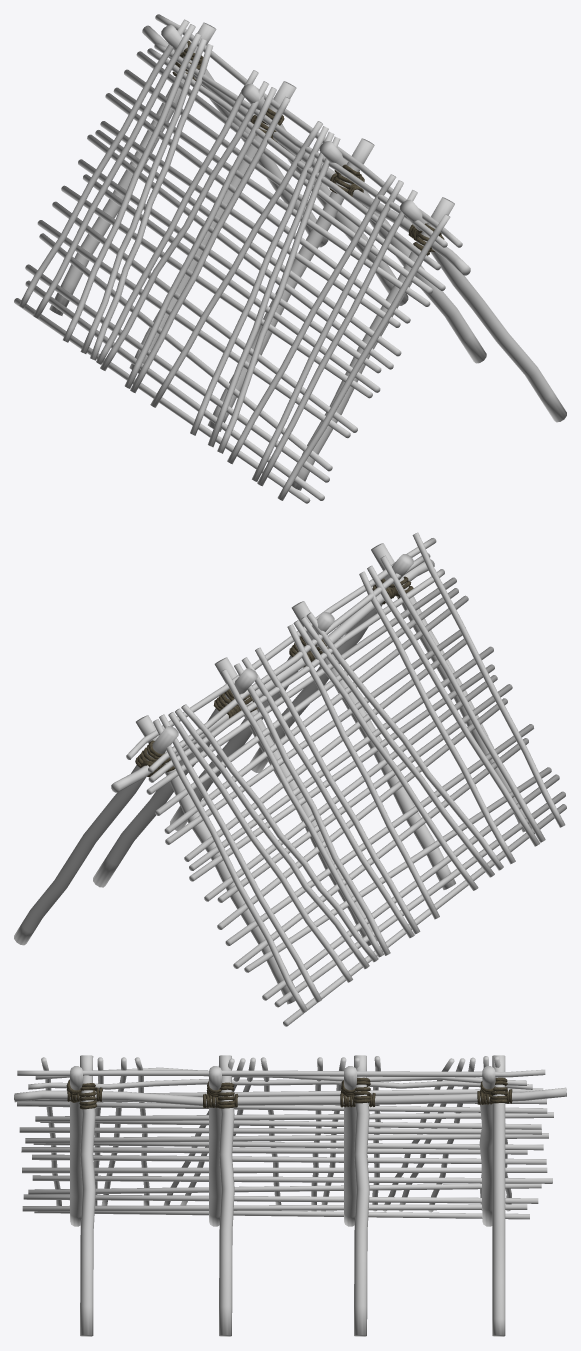
Rendered from midpoly_viking_tent_008.obj.
The picture shows the model from 3 angles, top to bottom: view 1: azimuth 30°, elevation 25°; view 2: azimuth 150°, elevation 25°; view 3: azimuth 270°, elevation 25°; orthographic projection. The views are drawn at different scales.
Parts seen in each view (by area): view 1: Cylinder.276, Cylinder.279, Cylinder.274, Cylinder.262, Cylinder.263, Cylinder.261, Cylinder.265, Cylinder.260, Cylinder.269, Cylinder.266, Cylinder.256, Cylinder.254 (+34 smaller); view 2: Cylinder.278, Cylinder.272, Cylinder.268, Cylinder.254, Cylinder.255, Cylinder.266, Cylinder.267, Cylinder.257, Cylinder.256, Cylinder.261, Cylinder.274, Cylinder.262 (+34 smaller); view 3: Cylinder.275, Cylinder.276, Cylinder.278, Cylinder.272, Cylinder.273, Cylinder.161, BezierCircle.286, Cylinder.247, Cylinder.231, Cylinder.229, Cylinder.246, Cylinder.230 (+28 smaller).
Boxes of the visible parts, x1=… form: Cylinder.276: x1=400, y1=199, x2=566, y2=422; Cylinder.279: x1=49, y1=22, x2=216, y2=315; Cylinder.274: x1=208, y1=138, x2=374, y2=431; Cylinder.262: x1=80, y1=38, x2=206, y2=353; Cylinder.263: x1=90, y1=43, x2=213, y2=360; Cylinder.261: x1=63, y1=33, x2=201, y2=342; Cylinder.265: x1=124, y1=87, x2=276, y2=388; Cylinder.260: x1=190, y1=126, x2=328, y2=435; Cylinder.269: x1=33, y1=24, x2=195, y2=318; Cylinder.266: x1=130, y1=96, x2=290, y2=393; Cylinder.256: x1=252, y1=180, x2=403, y2=481; Cylinder.254: x1=277, y1=214, x2=450, y2=500; Cylinder.278: x1=14, y1=726, x2=178, y2=945; Cylinder.272: x1=93, y1=668, x2=257, y2=887; Cylinder.268: x1=221, y1=669, x2=383, y2=957; Cylinder.254: x1=412, y1=532, x2=565, y2=827; Cylinder.255: x1=380, y1=555, x2=545, y2=842; Cylinder.266: x1=255, y1=647, x2=420, y2=934; Cylinder.267: x1=287, y1=624, x2=439, y2=919; Cylinder.257: x1=359, y1=571, x2=515, y2=864; Cylinder.256: x1=367, y1=565, x2=539, y2=846; Cylinder.261: x1=168, y1=712, x2=352, y2=982; Cylinder.274: x1=291, y1=601, x2=455, y2=889; Cylinder.262: x1=175, y1=708, x2=369, y2=969; Cylinder.275: x1=14, y1=1087, x2=566, y2=1105; Cylinder.276: x1=80, y1=1055, x2=95, y2=1336; Cylinder.278: x1=492, y1=1055, x2=505, y2=1336; Cylinder.272: x1=354, y1=1055, x2=369, y2=1336; Cylinder.273: x1=218, y1=1055, x2=234, y2=1336; Cylinder.161: x1=17, y1=1069, x2=545, y2=1077; BezierCircle.286: x1=66, y1=1077, x2=512, y2=1109; Cylinder.247: x1=22, y1=1167, x2=547, y2=1173; Cylinder.231: x1=19, y1=1127, x2=541, y2=1134; Cylinder.229: x1=32, y1=1154, x2=546, y2=1164; Cylinder.246: x1=32, y1=1175, x2=552, y2=1183; Cylinder.230: x1=25, y1=1133, x2=548, y2=1143.
Size of the model in its own units: 4.89 by 4.03 by 8.93.
